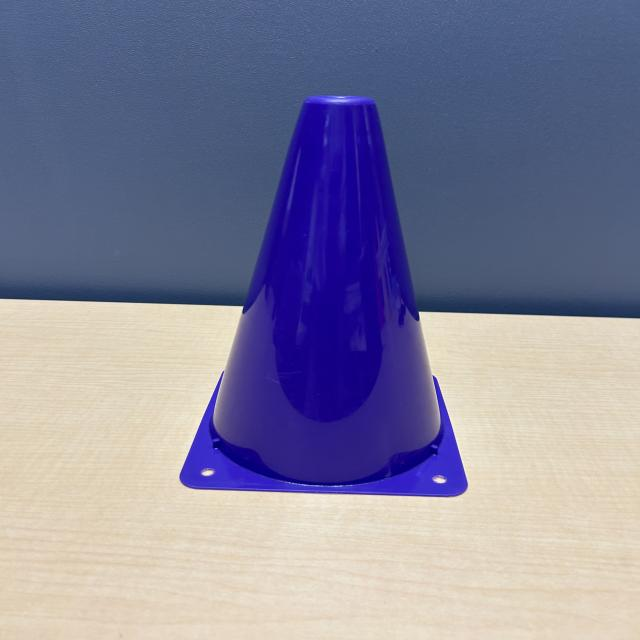purple cone: (177, 91, 471, 500)
